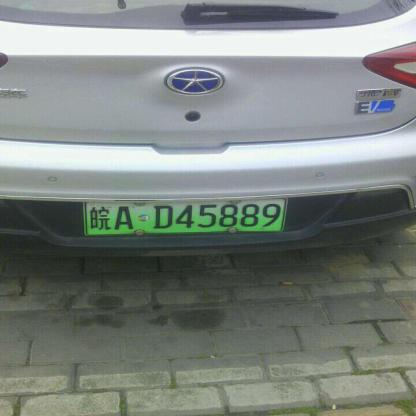lp: (85, 198, 285, 233)
